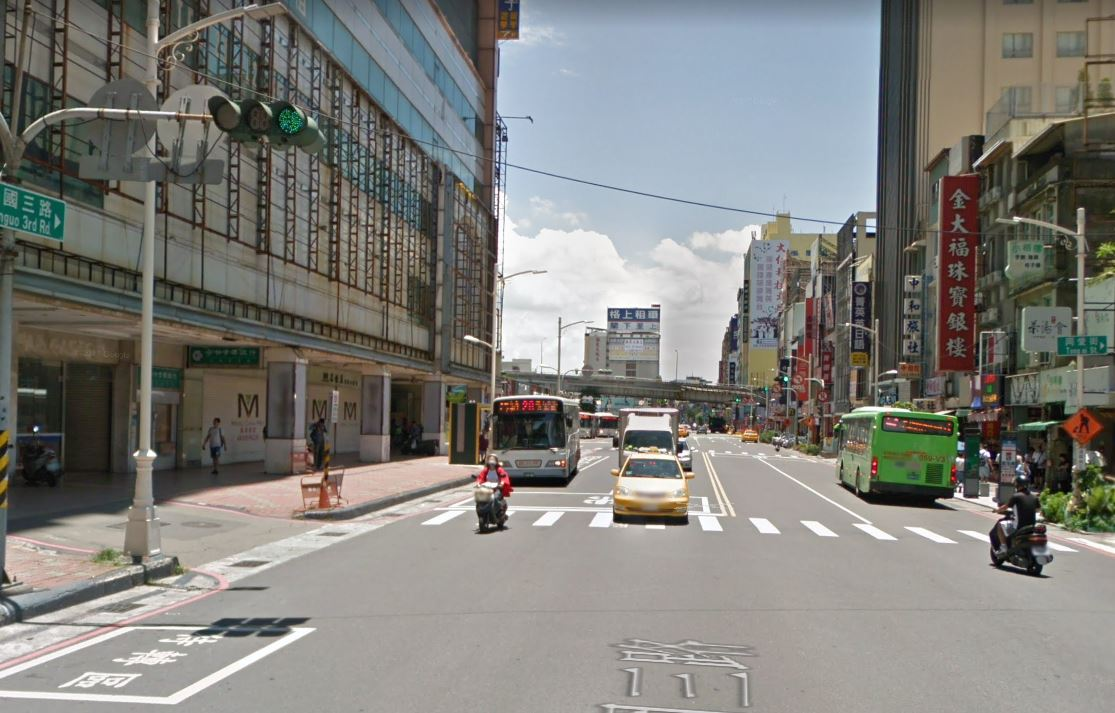Traffic_light_green: (211, 96, 328, 157)
car: (609, 450, 699, 526)
motorcycle: (983, 503, 1057, 575), (468, 475, 512, 535)
